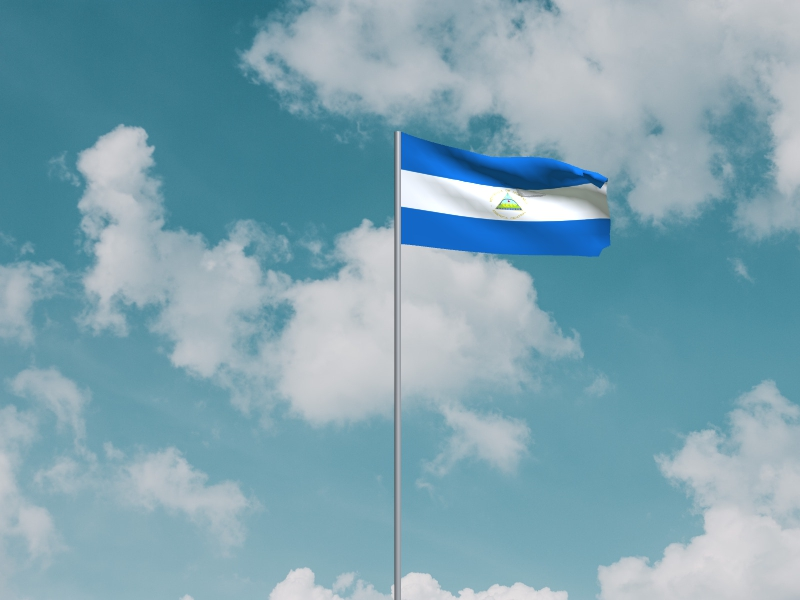ni: (402, 133, 613, 259)
